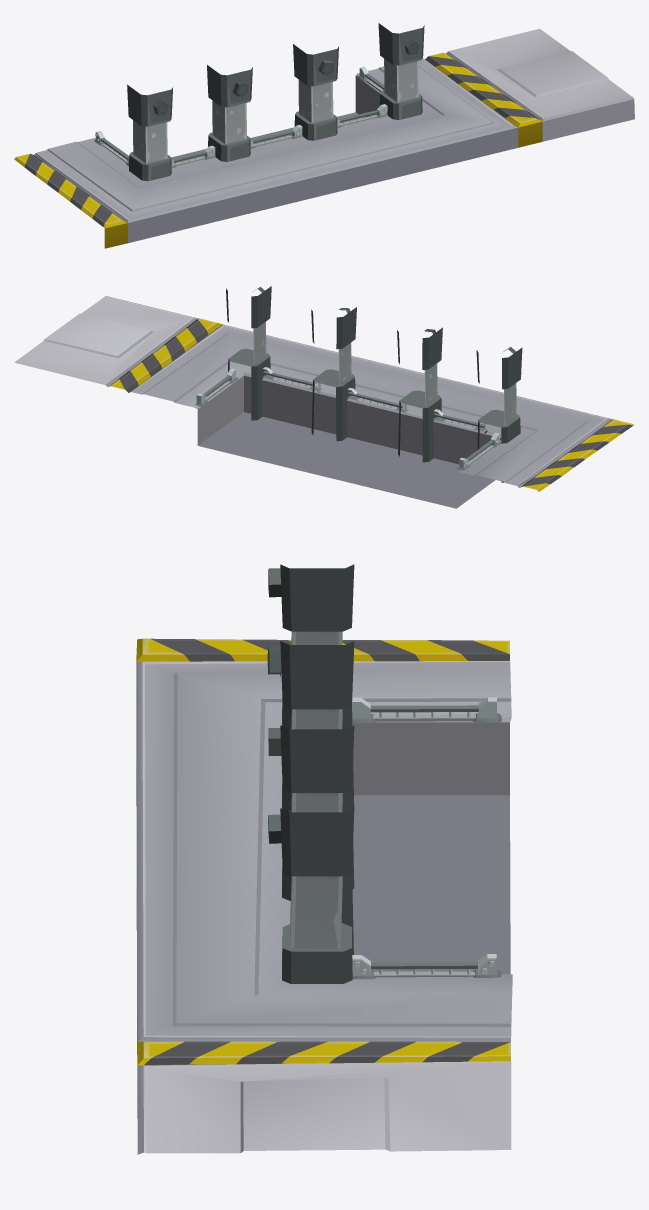
The model's file is HerbertHallway_0.glb.
The picture shows the model from 3 angles, top to bottom: view 1: azimuth 30°, elevation 25°; view 2: azimuth 150°, elevation 25°; view 3: azimuth 270°, elevation 25°; orthographic projection. The views are drawn at different scales.
Visible parts, largest first — view 1: HerbertHallway; view 2: HerbertHallway; view 3: HerbertHallway.
Part boxes in pixels (left/top/right/bottom): HerbertHallway: left=14, top=23, right=634, bottom=248; HerbertHallway: left=14, top=286, right=634, bottom=508; HerbertHallway: left=136, top=564, right=512, bottom=1154.
Bounding box in the file's own units: 36.24 × 8.21 × 11.17.
